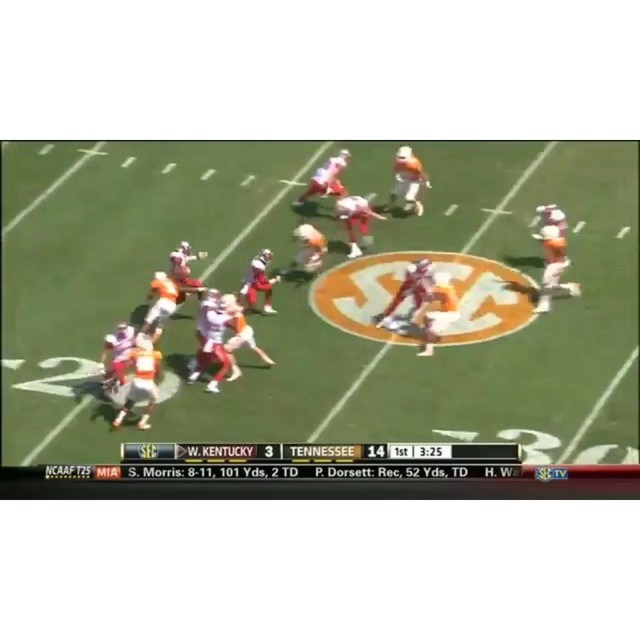american-football-player: (528, 204, 583, 306), (113, 334, 164, 433), (373, 258, 431, 333), (222, 292, 277, 371), (191, 301, 235, 394), (384, 145, 432, 218), (335, 193, 387, 260), (293, 149, 353, 206), (138, 269, 182, 345), (99, 322, 138, 401), (280, 222, 328, 283), (240, 248, 281, 315), (168, 238, 207, 296)
